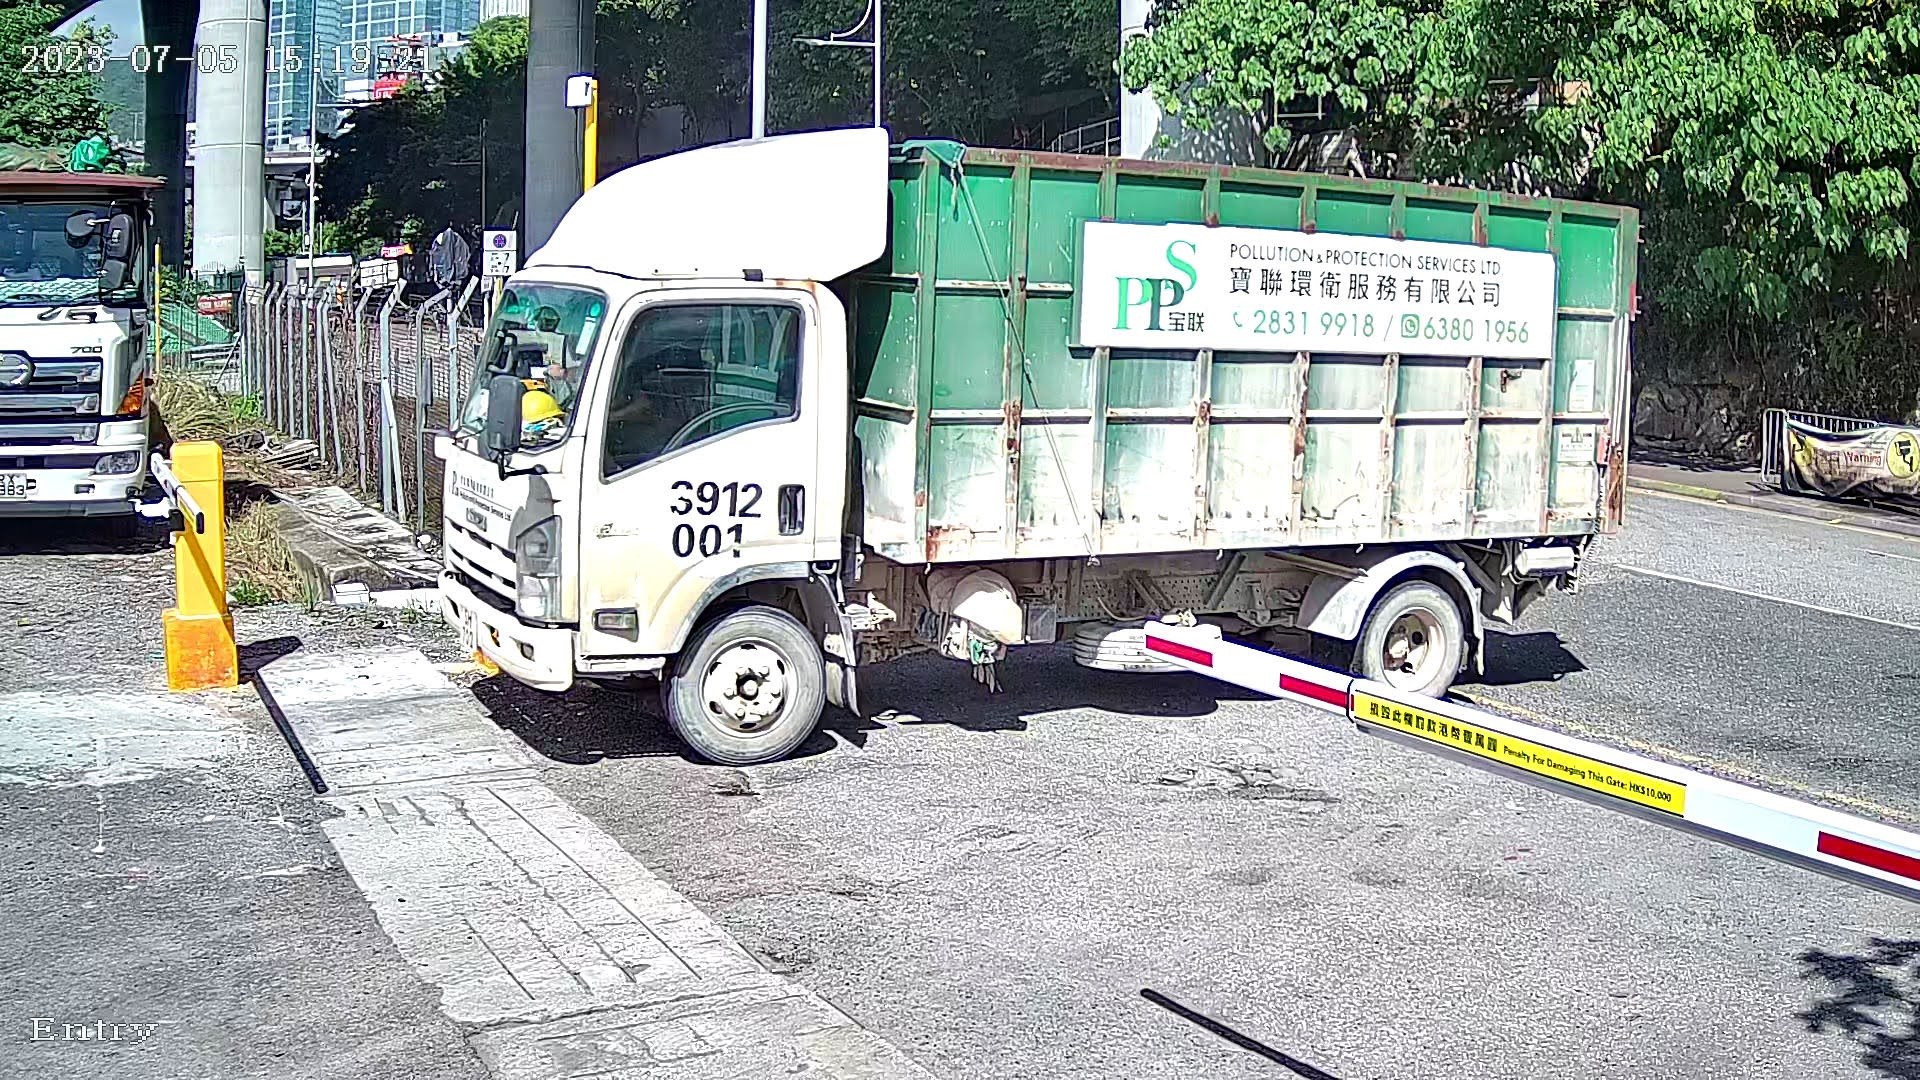truck_small: (393, 65, 1712, 831)
